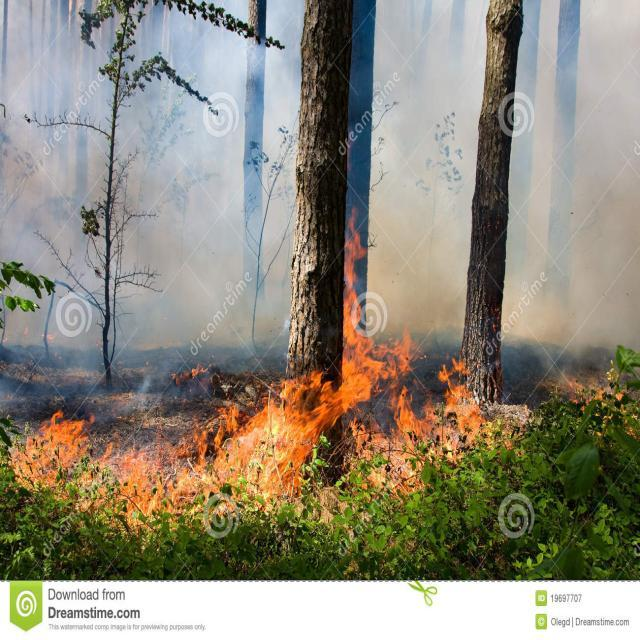Fire: (342, 368, 484, 496), (218, 377, 326, 515), (92, 438, 212, 538), (343, 253, 410, 422), (10, 401, 89, 501)
Smoke: (0, 0, 637, 350)
